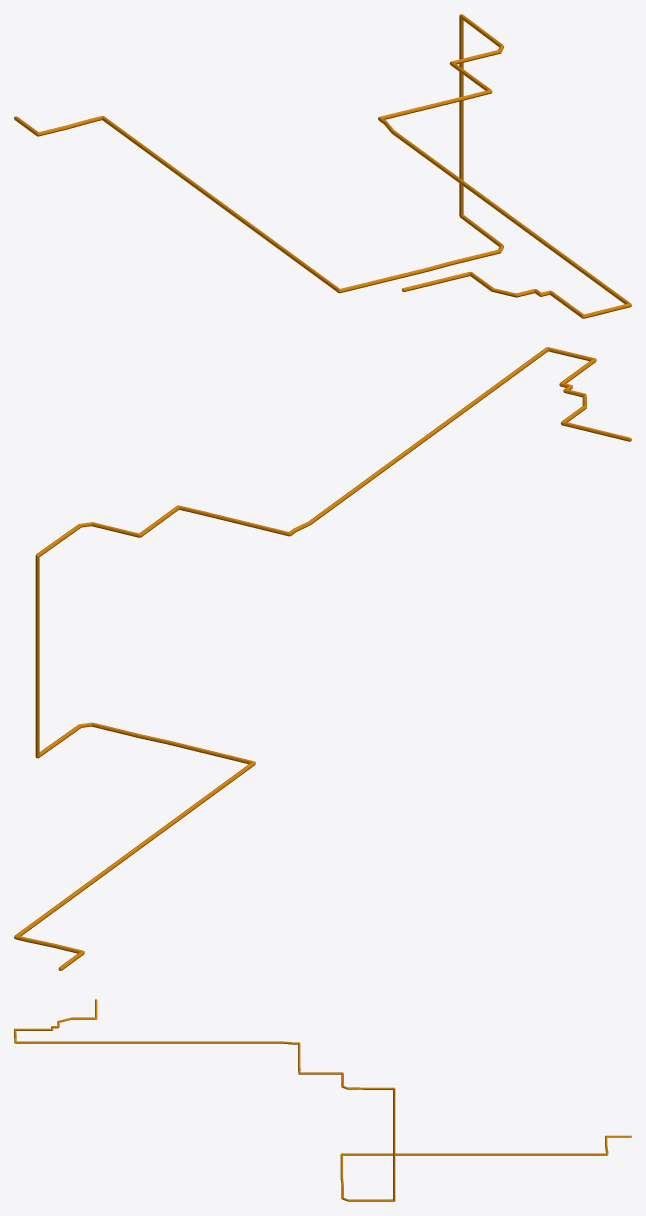
3 views of the same model, one above another, from view 1: azimuth 30°, elevation 25°; view 2: azimuth 150°, elevation 25°; view 3: azimuth 270°, elevation 25° (orthographic). The views are drawn at different scales.
Bounding box in the file's own units: 1717 × 1020 × 5010.
